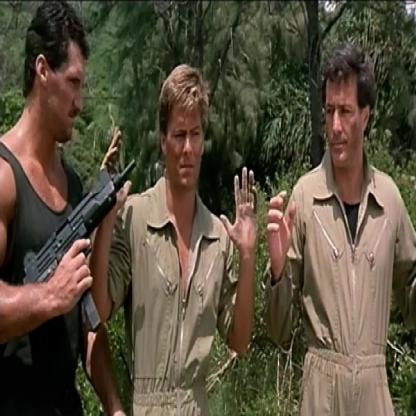Guns: (17, 153, 139, 336)
